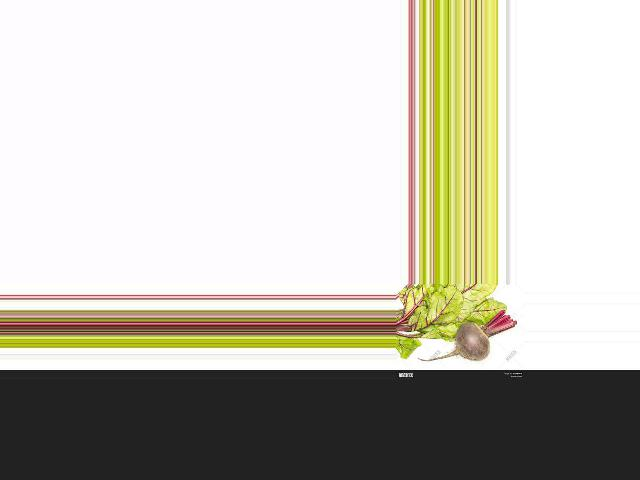beet: (418, 310, 517, 361)
